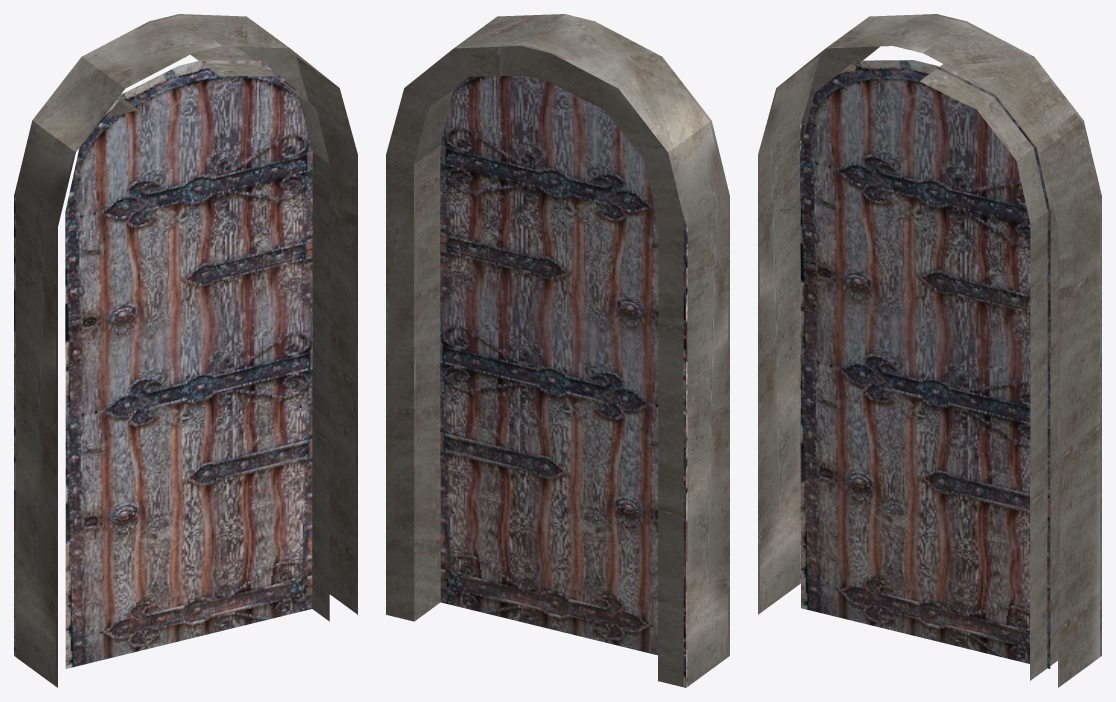
The model's file is smallDoor.glb.
3 renders of one model, left to right at view 1: azimuth 30°, elevation 25°; view 2: azimuth 150°, elevation 25°; view 3: azimuth 330°, elevation 25°, orthographic.
Visible parts, largest first — view 1: house1; view 2: house1; view 3: house1.
Boxes of the visible parts, x1,y1,x2,y2 form: house1: (14, 14, 357, 687); house1: (386, 14, 729, 687); house1: (758, 14, 1101, 687).
Size of the model in its own units: 1.27 by 2.44 by 0.3209.
Materials: 1 (1 with a texture image).
